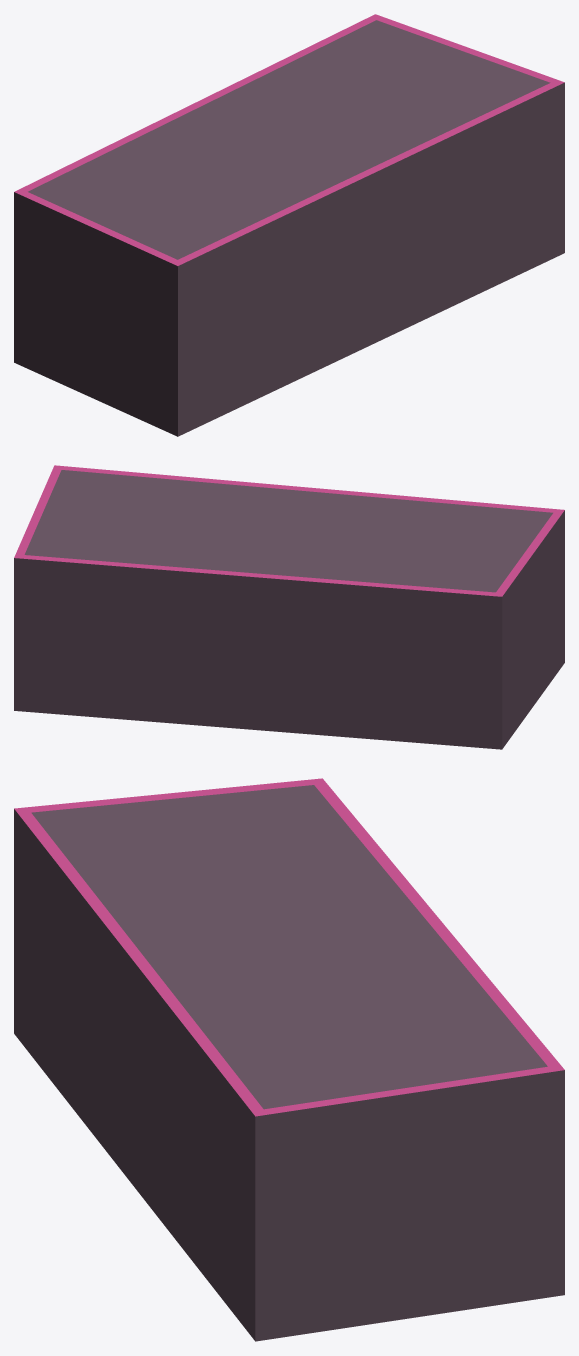
The model's file is way-1351248938.glb.
3 views of the same model, one above another, from view 1: azimuth 30°, elevation 25°; view 2: azimuth 150°, elevation 25°; view 3: azimuth 270°, elevation 25° (orthographic). The views are drawn at different scales.
Visible parts, largest first — view 1: way-1351248938; view 2: way-1351248938; view 3: way-1351248938.
Part boxes in pixels (x1,y1,x2,y2): way-1351248938: [14, 14, 564, 436]; way-1351248938: [14, 465, 564, 749]; way-1351248938: [14, 778, 564, 1341].
Size of the model in its own units: 9.67 by 3 by 6.66.
